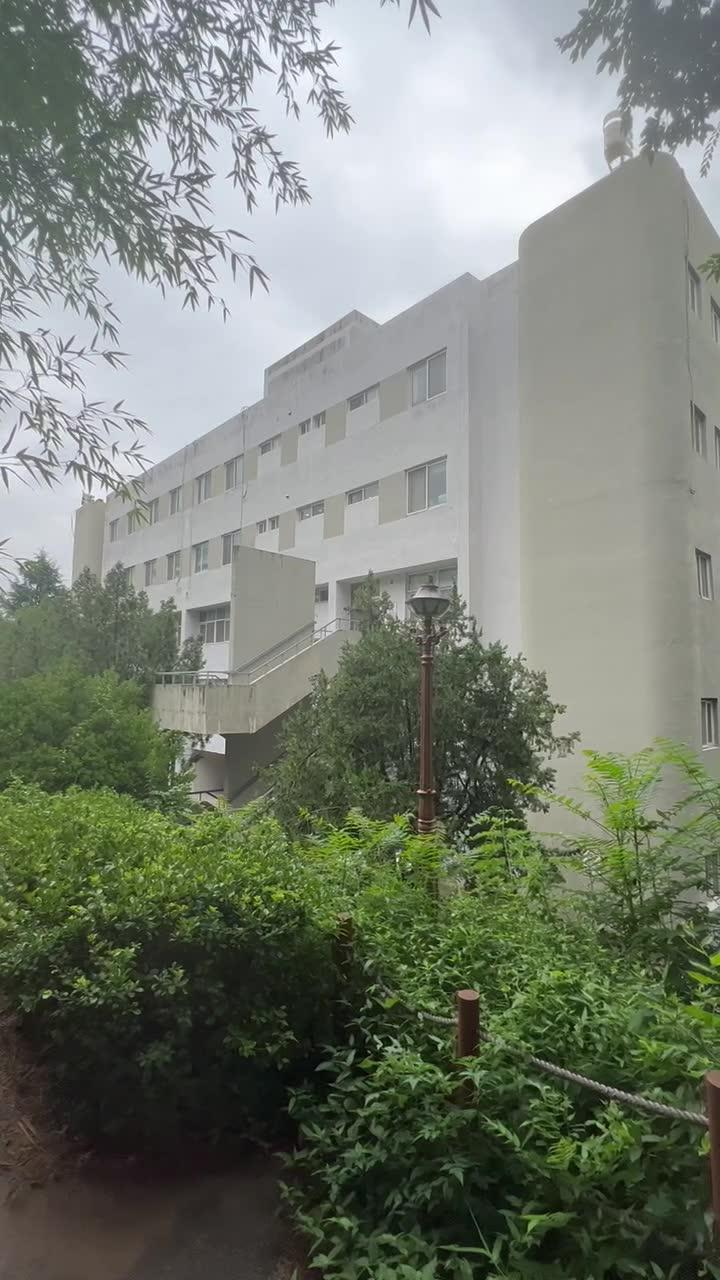building: (204, 252, 720, 616)
